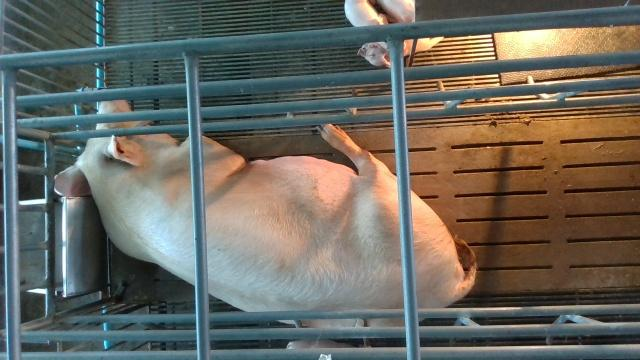piglet: (344, 0, 406, 49), (357, 36, 444, 68)
sow-sit: (55, 99, 478, 327)
